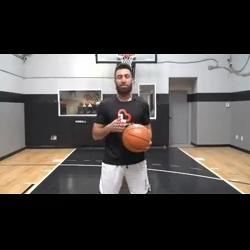BasketBall: (120, 122, 153, 154)
Player: (90, 62, 154, 194)
